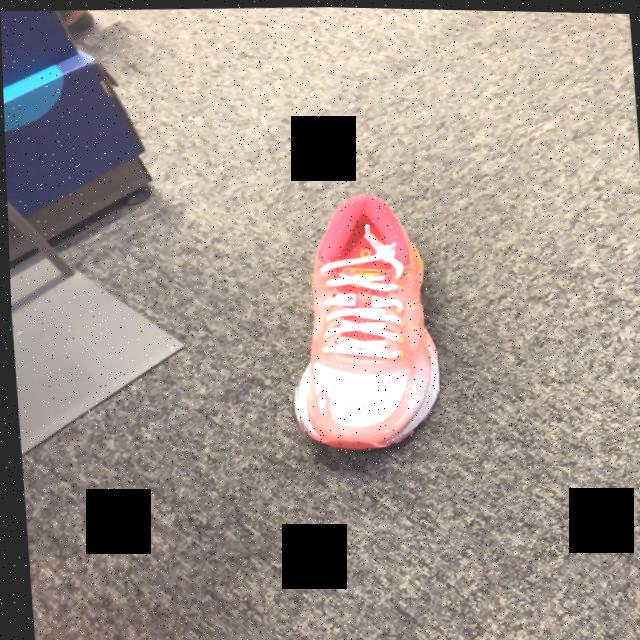shoe: (294, 194, 437, 451)
